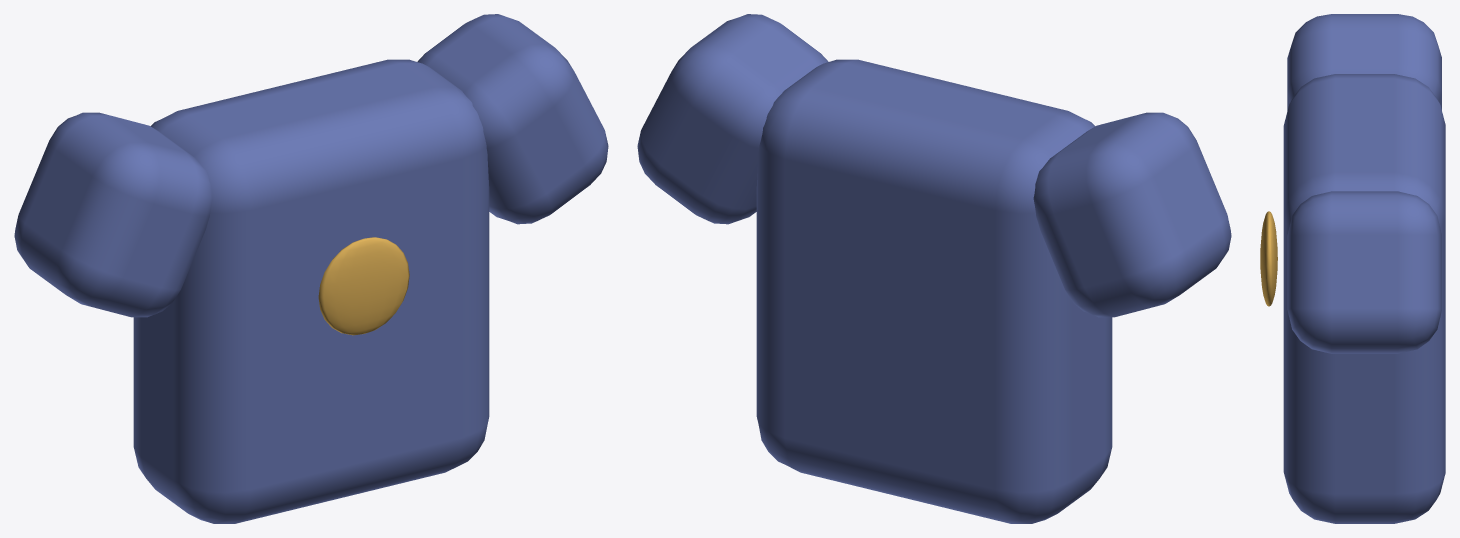
File: objeto-star-shirt.glb
3 renders of one model, left to right at view 1: azimuth 30°, elevation 25°; view 2: azimuth 150°, elevation 25°; view 3: azimuth 270°, elevation 25°, orthographic. The views are drawn at different scales.
Visible parts, largest first — view 1: equipment:star-shirt; view 2: equipment:star-shirt; view 3: equipment:star-shirt.
Part boxes in pixels (x1=…): equipment:star-shirt: x1=14, y1=14, x2=608, y2=523; equipment:star-shirt: x1=637, y1=14, x2=1231, y2=523; equipment:star-shirt: x1=1260, y1=14, x2=1445, y2=523.
Bounding box in the file's own units: 0.7775 × 0.5481 × 0.252.
